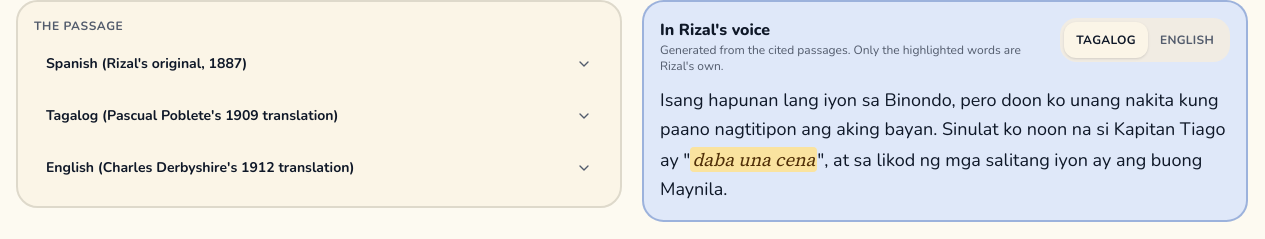
it: ReflectionCard › shows Tagalog first and toggles to English without fetching
Check: the element "In Rizal's voice" shows "Isang hapunan lang iyon", box [660,88,1226,172]
Click the tab "English" at (1187, 40), box [1148,22,1226,58]
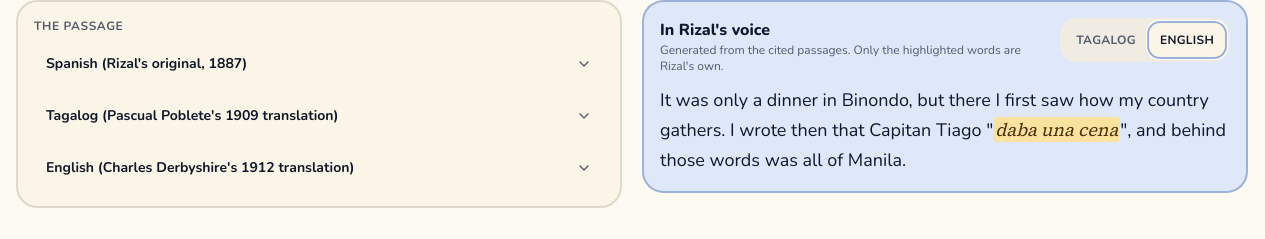
Check: the element "In Rizal's voice" shows "It was only a dinner", box [660,88,1209,142]
Check: the element "In Rizal's voice" no longer shows "Isang hapunan", box [642,0,1248,193]
